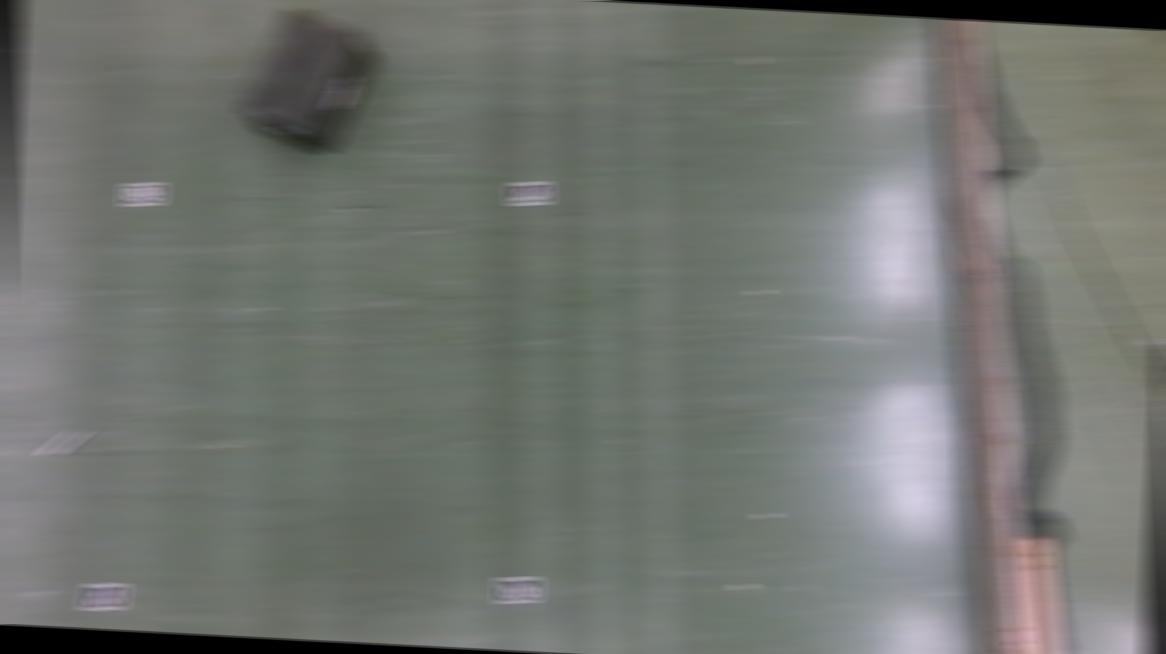probes: (40, 424, 88, 458)
rako: (234, 5, 379, 157)
